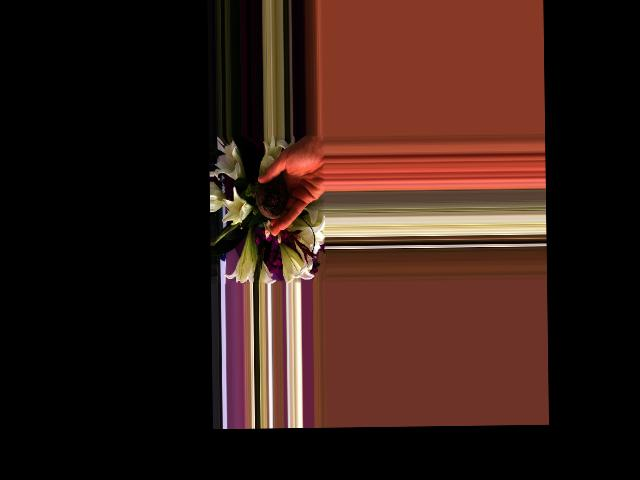beet: (256, 179, 288, 220)
